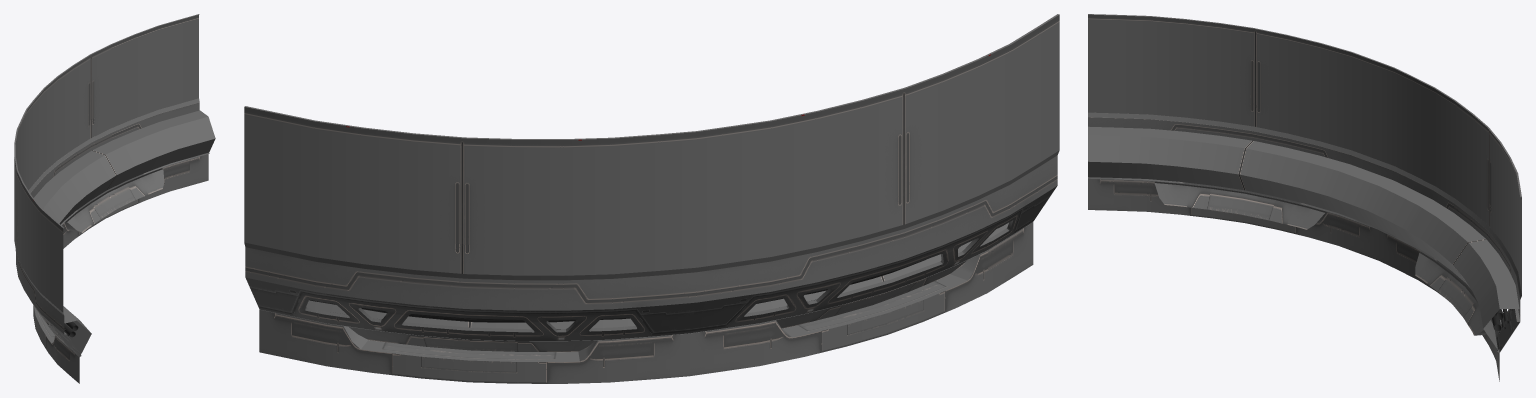
Rendered from TopCables_Corner_Round_Outer.gltf.
The picture shows the model from 3 angles, left to right: view 1: azimuth 30°, elevation 25°; view 2: azimuth 150°, elevation 25°; view 3: azimuth 270°, elevation 25°; orthographic projection. The views are drawn at different scales.
Parts seen in each view (by area): view 1: TopCables_Corner_Round_Outer; view 2: TopCables_Corner_Round_Outer; view 3: TopCables_Corner_Round_Outer.
Part boxes in pixels (<box>): TopCables_Corner_Round_Outer: <box>14,14,215,383</box>; TopCables_Corner_Round_Outer: <box>244,14,1059,383</box>; TopCables_Corner_Round_Outer: <box>1088,14,1521,381</box>.
Bounding box in the file's own units: 4.22 × 2 × 4.22.
4 materials, 4 textured.
